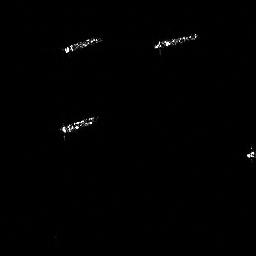ship: (57, 114, 101, 142), (154, 31, 201, 56), (63, 36, 105, 55)
